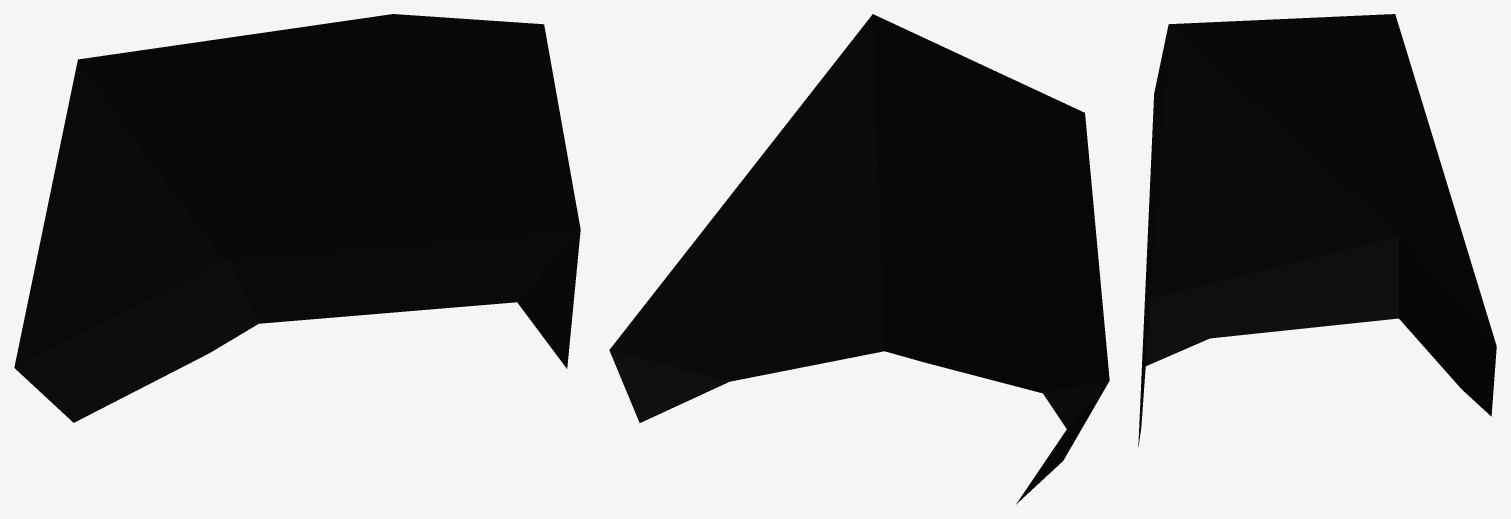
3 views of the same model, side by side, from view 1: azimuth 30°, elevation 25°; view 2: azimuth 150°, elevation 25°; view 3: azimuth 270°, elevation 25° (orthographic). The views are drawn at different scales.
Size of the model in its own units: 0.2014 by 0.1449 by 0.1318.
1 material, 1 textured.
